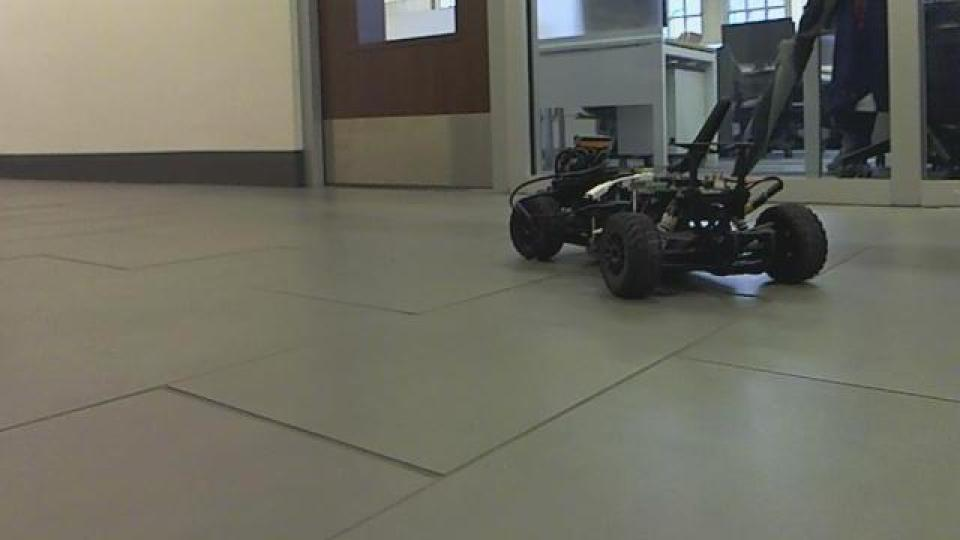car: (504, 15, 831, 301)
